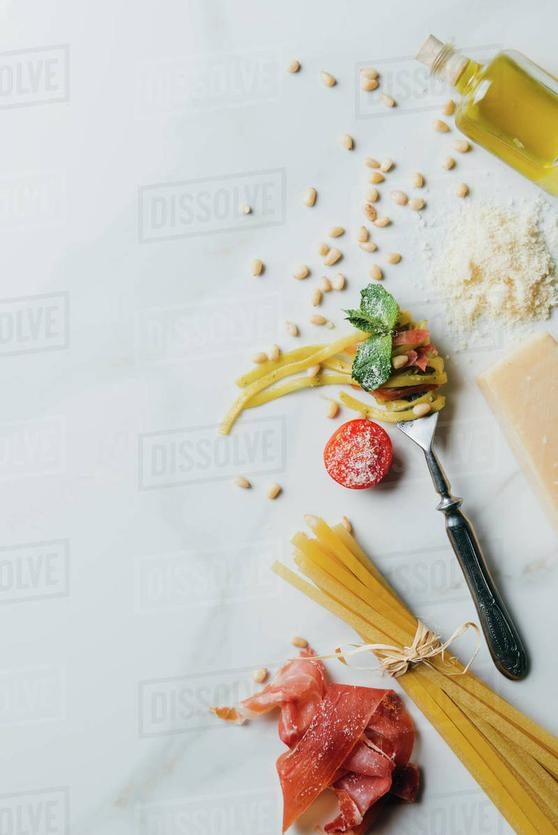spaghetti: (275, 514, 549, 835)
